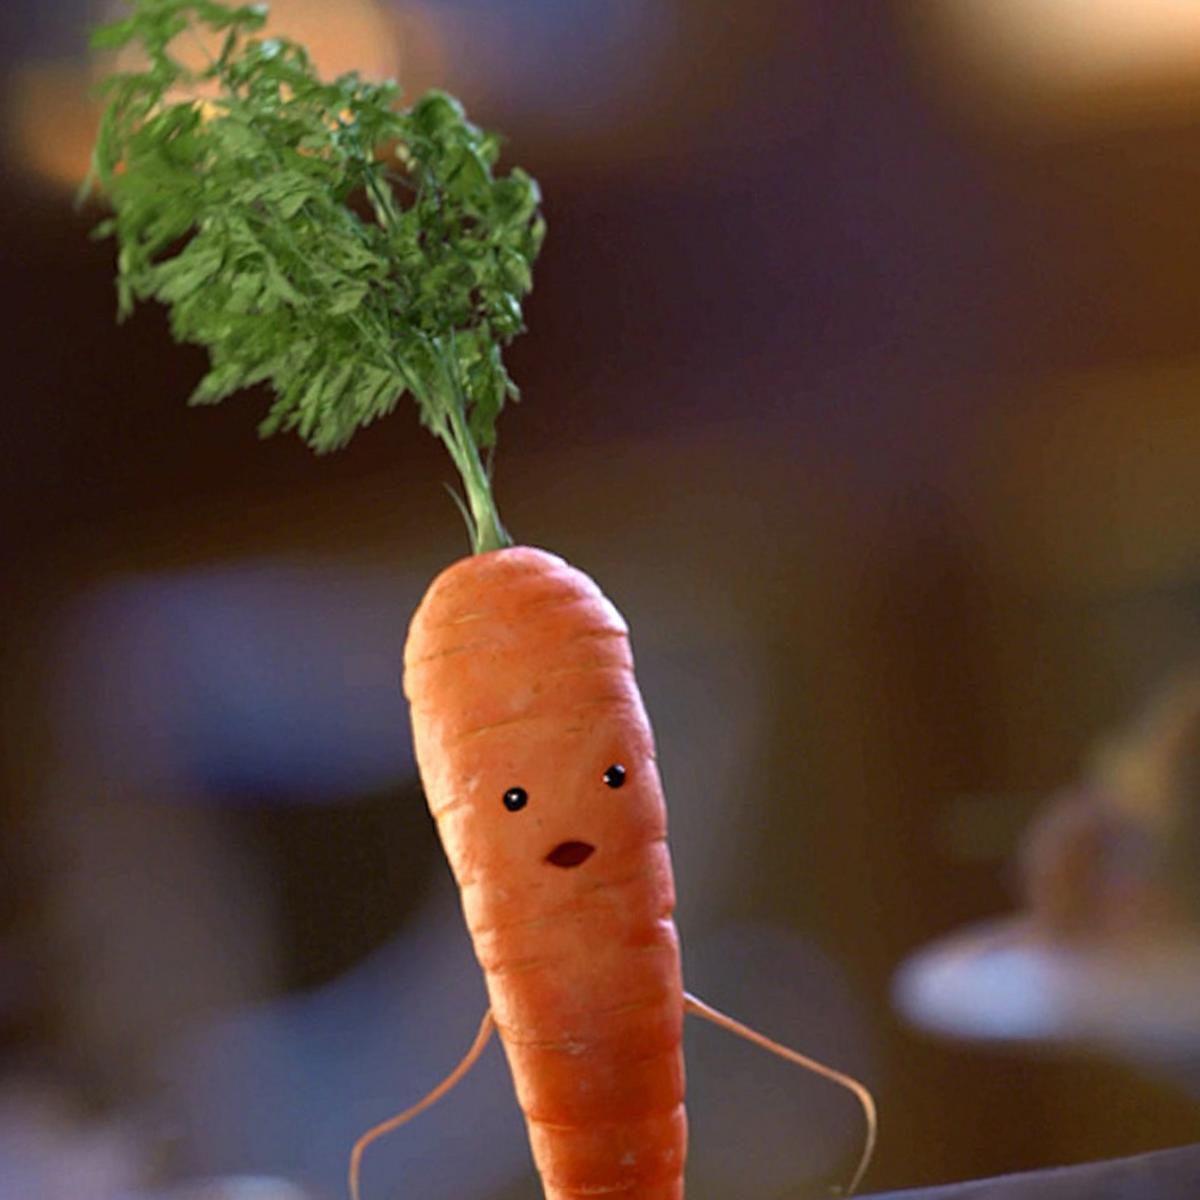carrot: (121, 40, 826, 1200), (416, 516, 746, 1200)
